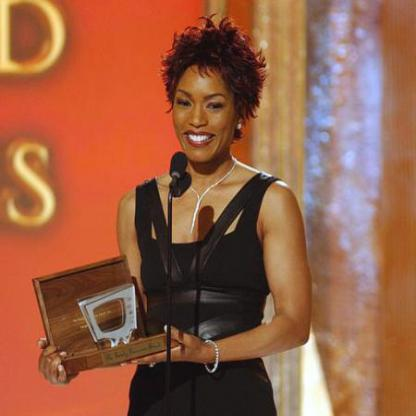face: (173, 49, 240, 166)
